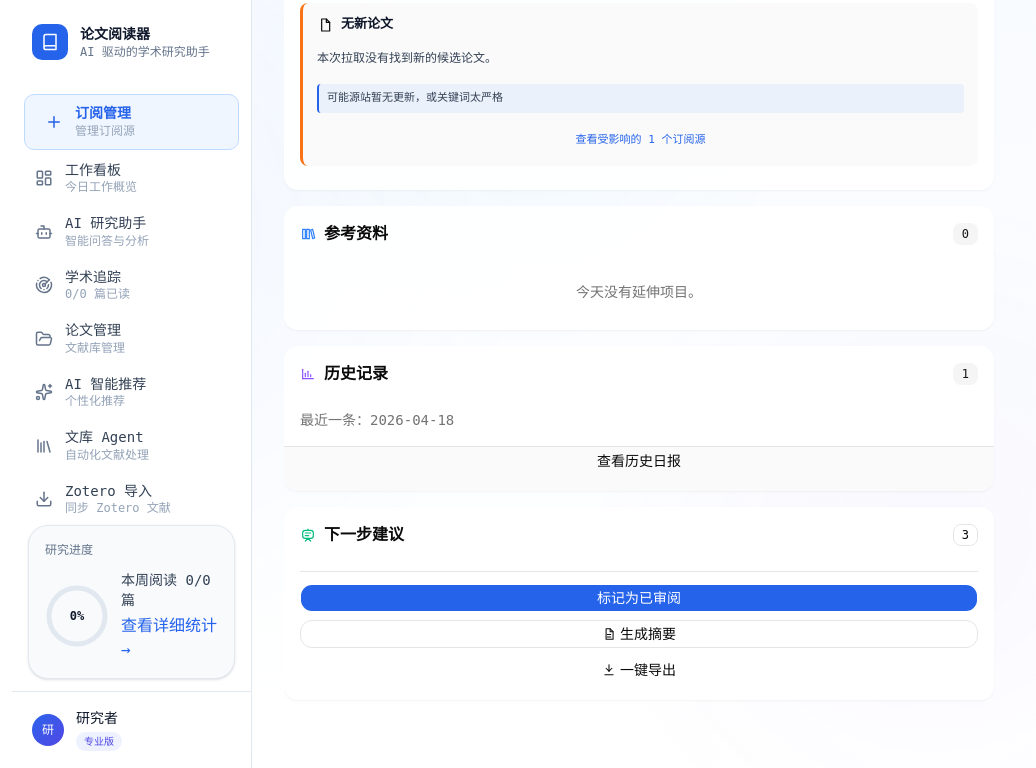
Test: 每日日报顶部控件区使用 command deck 并可展开历史日报
(page scrolled)
Step 1. Click the button "查看历史日报" → (639, 460), box top-left (300, 446), bottom-right (978, 474)
(page scrolled)
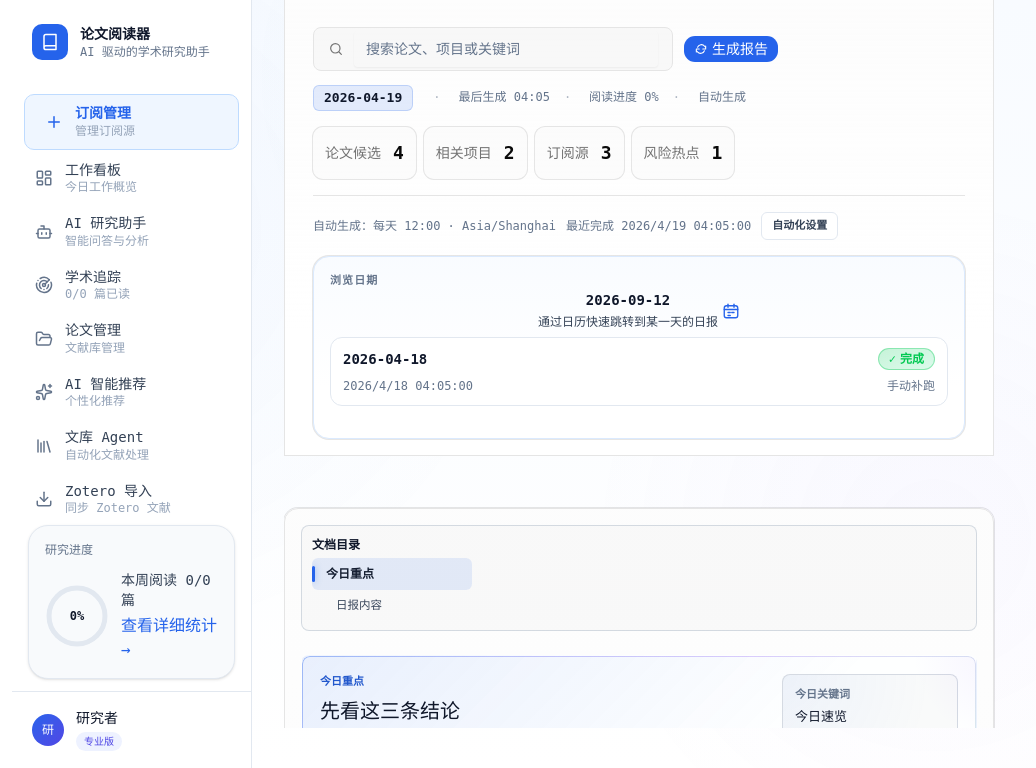
Expected: the button with aria-label "浏览日报日期" is shown, top-left (330, 297), bottom-right (948, 325)
Expected: the button "2026-04-18 ✓ 完成 2026/4/18 04:05:00 手动补跑" is shown, top-left (330, 337), bottom-right (948, 406)
